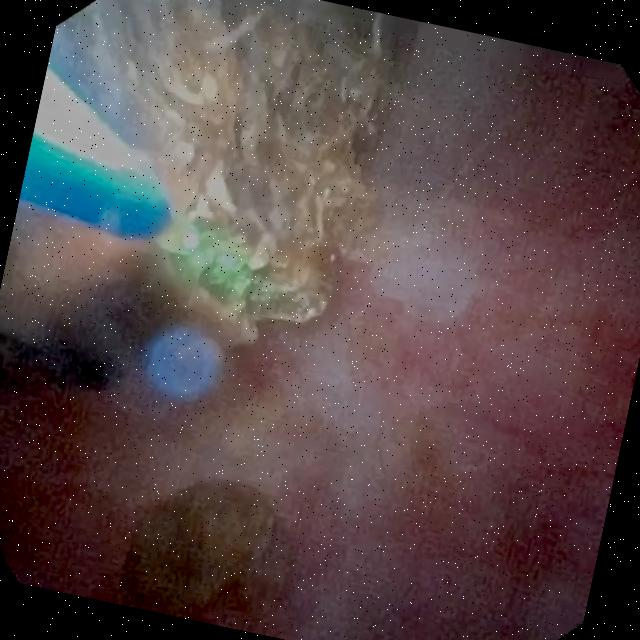laser-fibre: (154, 213, 199, 256)
laser_dot: (203, 254, 253, 306)
stone-new: (0, 0, 383, 385), (119, 480, 289, 620)
